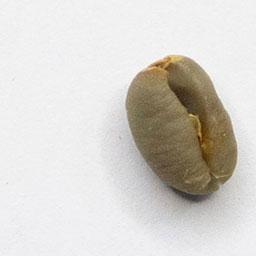peaberry: (121, 50, 241, 201)
